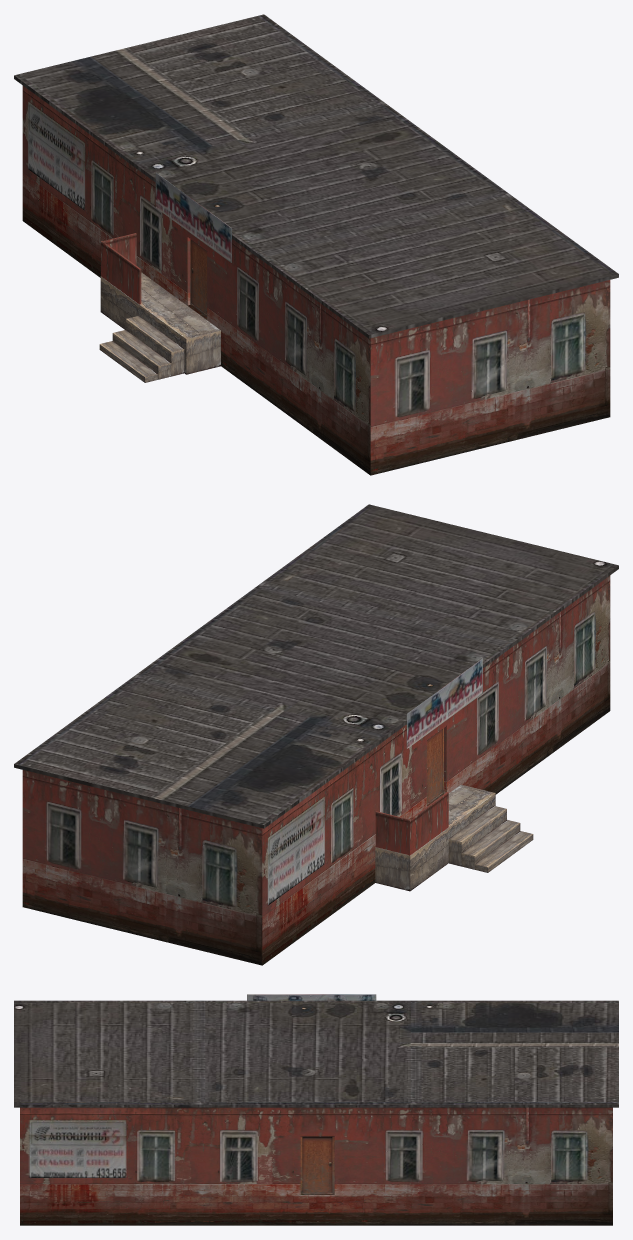
File: r402_tukalinsk_magazin.fbx
3 views of the same model, one above another, from view 1: azimuth 30°, elevation 25°; view 2: azimuth 150°, elevation 25°; view 3: azimuth 270°, elevation 25° (orthographic). The views are drawn at different scales.
Visible parts, largest first — view 1: Box01; view 2: Box01; view 3: Box01.
Part boxes in pixels (x1,y1,x2,y2): Box01: [14, 14, 618, 475]; Box01: [14, 504, 618, 965]; Box01: [14, 994, 618, 1225].
Bounding box in the file's own units: 9.5 × 4.31 × 18.3.
1 material, 1 textured.
